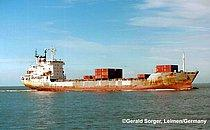Ship: (23, 46, 202, 94)
